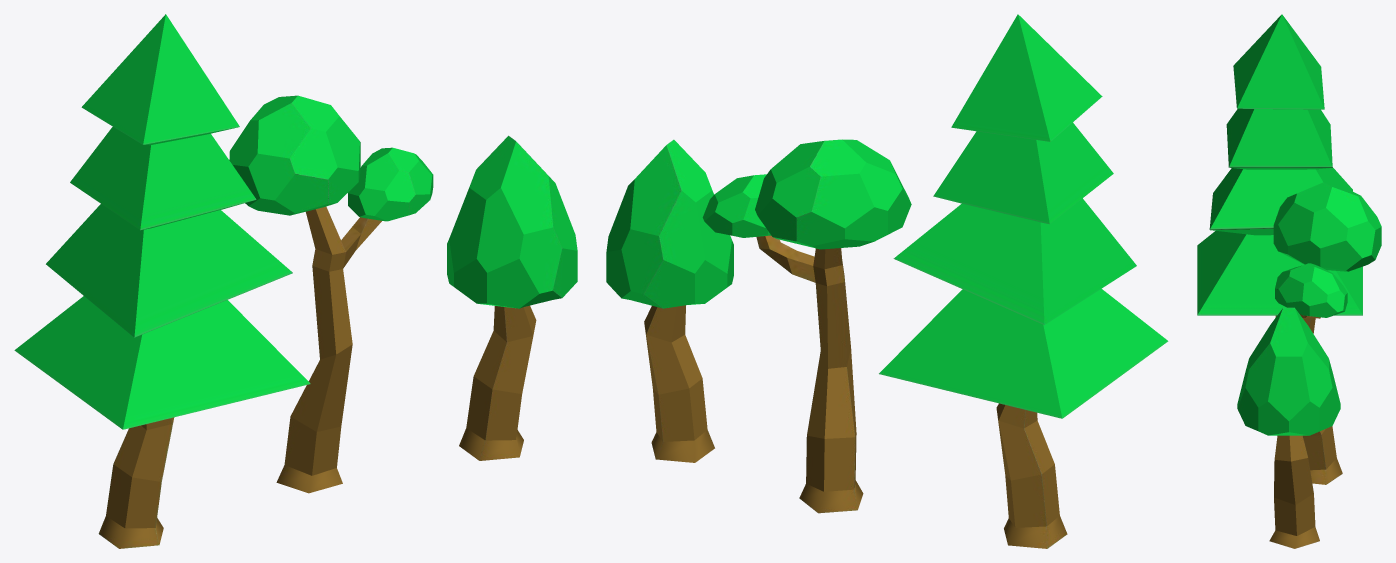
File: arboles.FBX
3 renders of one model, left to right at view 1: azimuth 30°, elevation 25°; view 2: azimuth 150°, elevation 25°; view 3: azimuth 270°, elevation 25°, orthographic. The views are drawn at different scales.
Parts seen in each view (by area): view 1: Cylinder007; view 2: Cylinder007; view 3: Cylinder007.
Part boxes in pixels (x1=…): Cylinder007: x1=14, y1=14, x2=577, y2=548; Cylinder007: x1=606, y1=14, x2=1168, y2=548; Cylinder007: x1=1197, y1=14, x2=1381, y2=548.
Bounding box in the file's own units: 139 × 137 × 57.37.
1 material, 1 textured.
